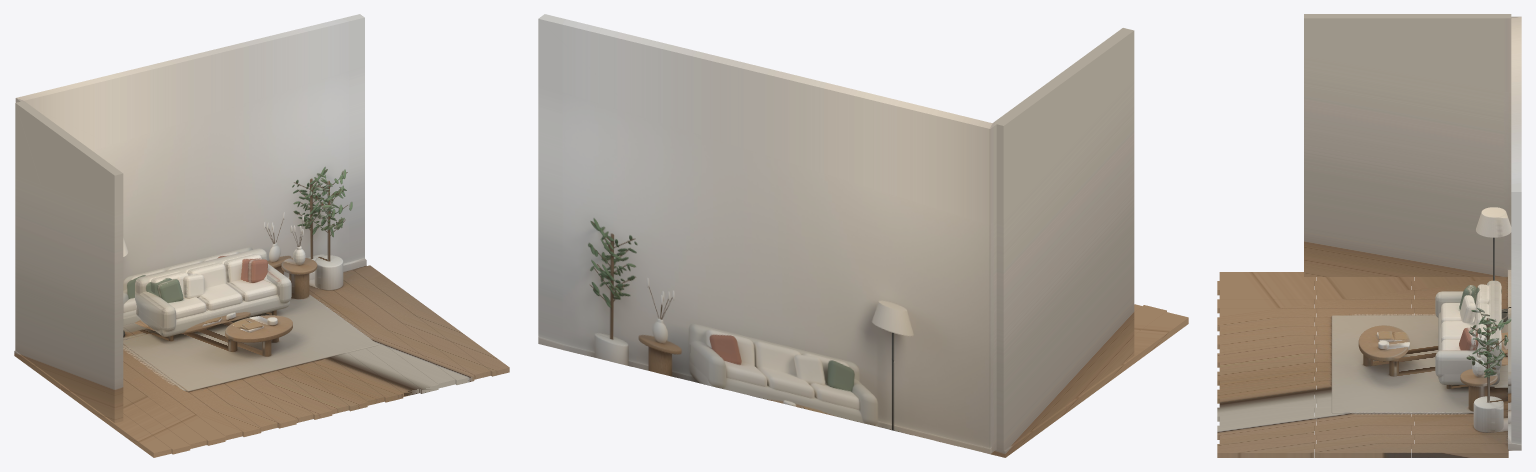
The model's file is living-room.glb.
3 views of the same model, side by side, from view 1: azimuth 30°, elevation 25°; view 2: azimuth 150°, elevation 25°; view 3: azimuth 270°, elevation 25° (orthographic). The views are drawn at different scales.
Parts seen in each view (by area): view 1: LivingRoom_FixedCameraLighting; view 2: LivingRoom_FixedCameraLighting; view 3: LivingRoom_FixedCameraLighting.
Part boxes in pixels (<box>): LivingRoom_FixedCameraLighting: <box>14,14,509,457</box>; LivingRoom_FixedCameraLighting: <box>538,14,1188,457</box>; LivingRoom_FixedCameraLighting: <box>1217,14,1521,457</box>.
Bounding box in the file's own units: 6.6 × 4.49 × 4.7.
Materials: 1 (1 with a texture image).
